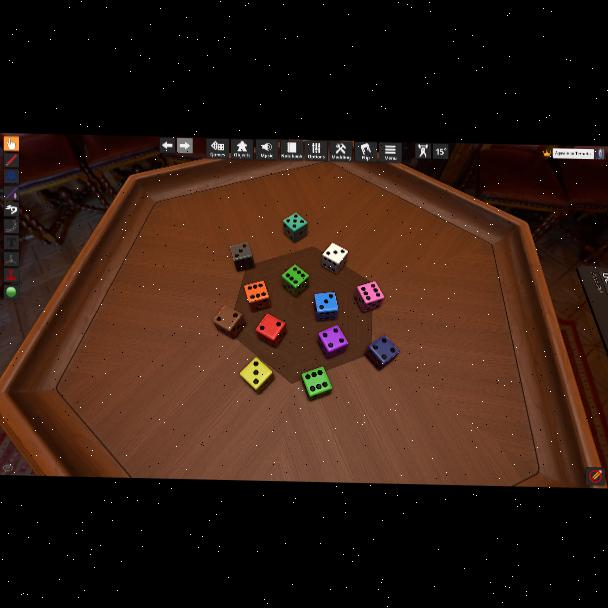d6: (240, 357, 274, 394), (365, 336, 398, 371), (256, 313, 286, 349), (317, 325, 347, 360), (214, 306, 244, 340), (302, 367, 332, 401), (244, 279, 272, 312), (355, 281, 383, 314), (282, 265, 308, 298), (321, 242, 347, 275), (282, 212, 308, 243), (312, 292, 338, 322), (230, 243, 255, 274)
